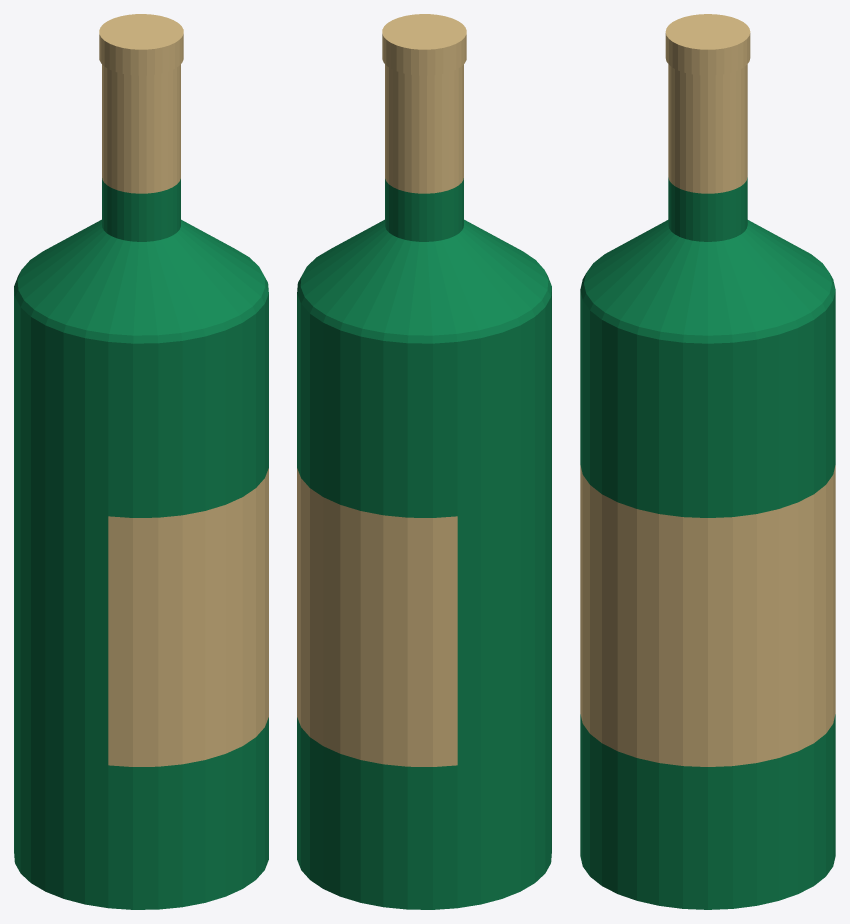
The model's file is WineBottleV4.fbx.
The picture shows the model from 3 angles, left to right: view 1: azimuth 30°, elevation 25°; view 2: azimuth 150°, elevation 25°; view 3: azimuth 270°, elevation 25°; orthographic projection.
Visible parts, largest first — view 1: Cylinder.001; view 2: Cylinder.001; view 3: Cylinder.001.
Boxes of the visible parts, x1,y1,x2,y2 form: Cylinder.001: (14,14,268,909); Cylinder.001: (297,14,551,909); Cylinder.001: (580,14,835,909).
Bounding box in the file's own units: 116 × 116 × 412.
